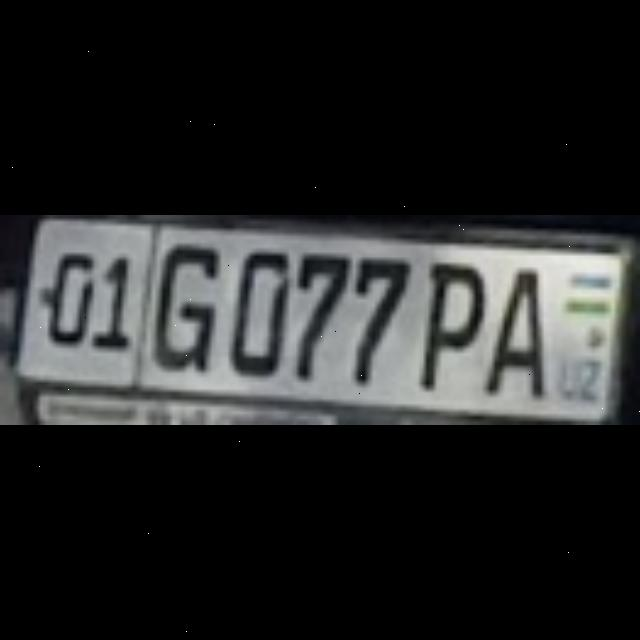0: (230, 250, 278, 366), (44, 245, 84, 338)
1: (92, 254, 121, 342)
7: (352, 254, 401, 376), (294, 249, 342, 371)
A: (484, 264, 538, 386)
G: (152, 240, 210, 366)
P: (415, 258, 479, 386)
